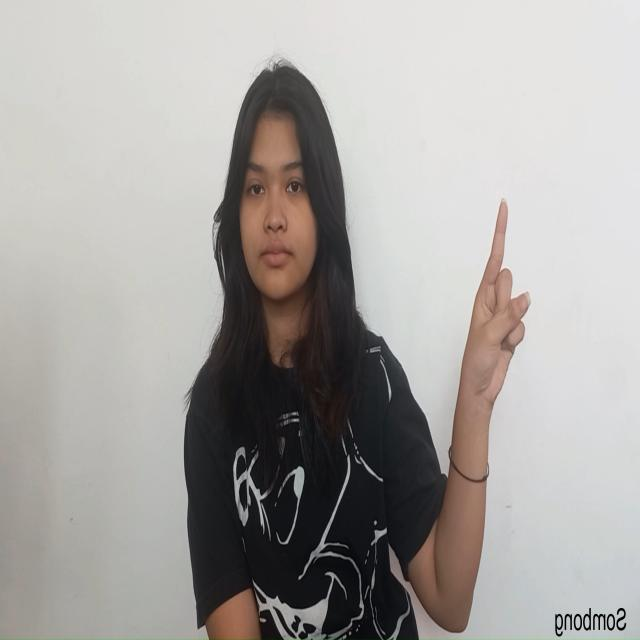Sombong -BISINDO-: (452, 194, 534, 415)
